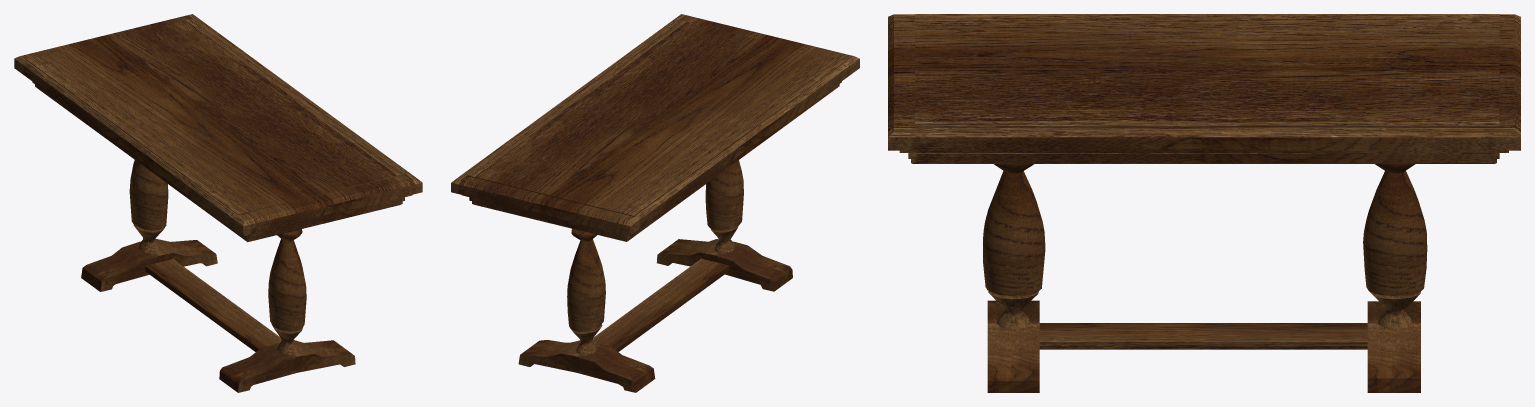
The model's file is Table 1.FBX.
The picture shows the model from 3 angles, left to right: view 1: azimuth 30°, elevation 25°; view 2: azimuth 150°, elevation 25°; view 3: azimuth 270°, elevation 25°; orthographic projection. The views are drawn at different scales.
Visible parts, largest first — view 1: table; view 2: table; view 3: table.
Part boxes in pixels (x1=…): table: x1=14, y1=14, x2=422, y2=392; table: x1=451, y1=14, x2=859, y2=392; table: x1=888, y1=14, x2=1520, y2=392.
Size of the model in its own units: 699 by 1548 by 761.
